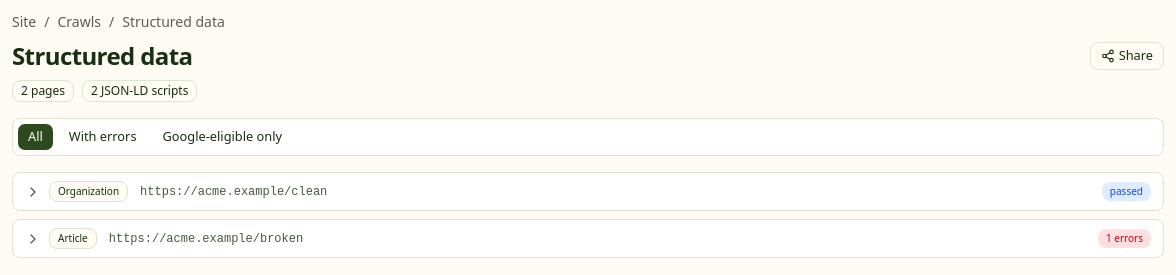
Test: StructuredDataReport › filters entries when 'With errors' is selected
The image size is (1176, 275).
Expected: the text "https://acme.example/clean" is shown, [140,184,327,200]
Expected: the text "https://acme.example/broken" is shown, [109,230,303,246]
What coordinates should you click on to do the following:
click the button "With errors"
I would click on:
 (103, 137)
Its box is [58,123,148,151].
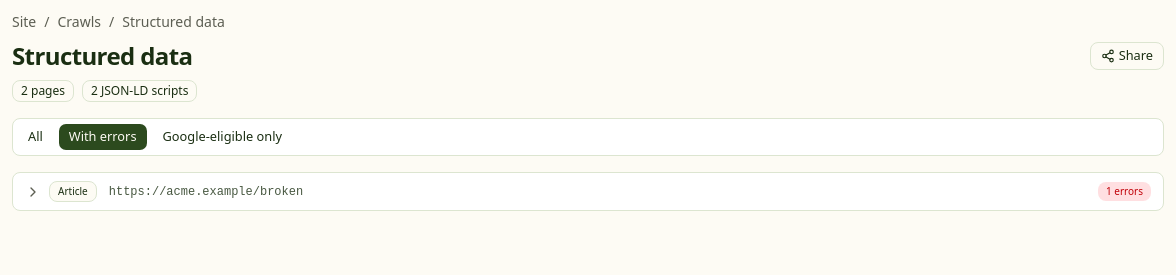
Expected: the text "https://acme.example/broken" is shown, [109,184,303,200]
Result: the button "https://acme.example/clean" is gone
